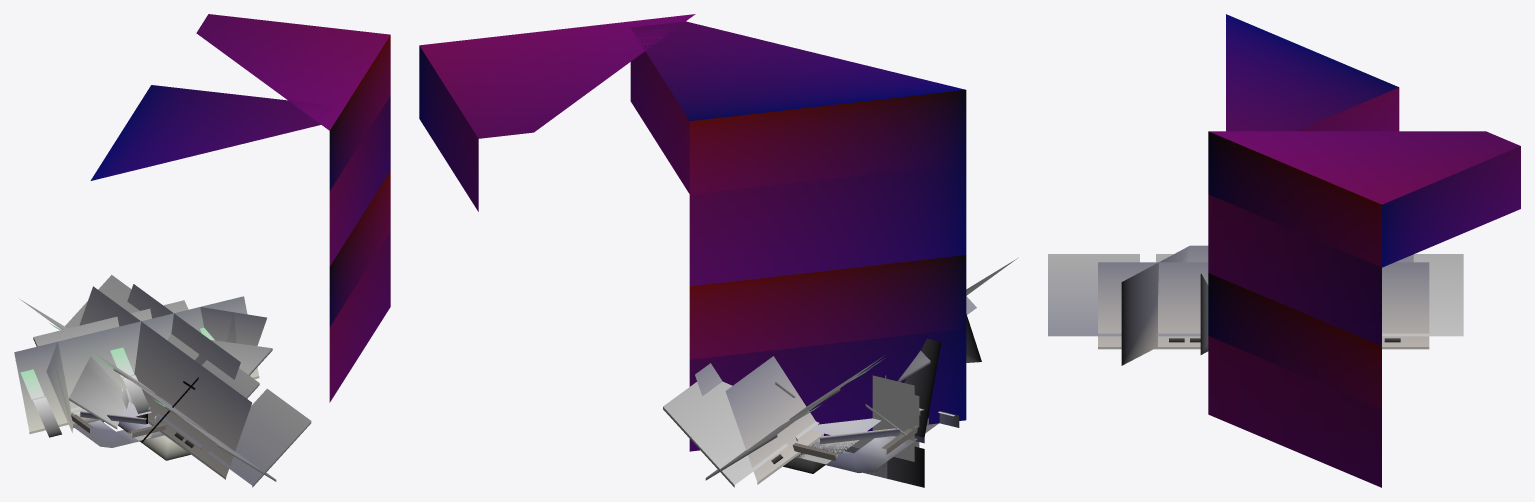
File: arena_survivor_series.glb
3 views of the same model, side by side, from view 1: azimuth 30°, elevation 25°; view 2: azimuth 150°, elevation 25°; view 3: azimuth 270°, elevation 25° (orthographic). The views are drawn at different scales.
Parts seen in each view (by area): view 1: 0x4fd_Arena, 0x4fe_Arena, 0x53d_Arena_Upper_Level_Crowd_Balcony_Part_14_Polygon, 0x53c_Arena_Upper_Level_Crowd_Balcony_Part_7_Polygon, 0x539_Arena_Upper_Level_Crowd_Balcony_Part_13_Polygon, 0x53a_Arena_Upper_Level_Crowd_Balcony_Part_1_Polygon, 0x537_Arena_Right_Crowd_Back_Row_Polygon, 0x53e_Arena_Upper_Level_Crowd_Balcony_Part_3_Polygon, 0x53b_Arena_Upper_Level_Crowd_Balcony_Part_2_Polygon, 0x538_Arena_Upper_Level_Crowd_Balcony_Part_12_Polygon, 0x545_Arena_Crowd_Area_Behind_the_Stage_Left_Side_Part_1_Pol, 0x5c3_Arena_Survivor_Series_Bottom_Right_Side_of_the_Back_st (+3 smaller); view 2: 0x4fe_Arena, 0x4fd_Arena, 0x53d_Arena_Upper_Level_Crowd_Balcony_Part_14_Polygon, 0x53c_Arena_Upper_Level_Crowd_Balcony_Part_7_Polygon, 0x543_Arena_Crowd_Area_Left_of_the_Stage_Part_1_Polygon, 0x5bd_Arena_Survivor_Series_Bottom_of_the_Front_Structure, 0x545_Arena_Crowd_Area_Behind_the_Stage_Left_Side_Part_1_Pol, 0x53e_Arena_Upper_Level_Crowd_Balcony_Part_3_Polygon, 0x55b_Arena_Normal_Match_Outside_Floormats_Four_Corner_Secti, 0x55d_Arena_Normal_Match_Ring_Mat_Polygon, 0x55c_Arena_Normal_Match_Outside_Floor_Pads_Larger_Pieces_Po, 0x55e_Arena_Scaffolding_Piece_1_Polygon (+2 smaller); view 3: 0x4fd_Arena, 0x4fe_Arena, 0x546_Arena_Upper_Level_Crowd_Balcony_Part_15_Polygon, 0x545_Arena_Crowd_Area_Behind_the_Stage_Left_Side_Part_1_Pol, 0x547_Arena_Upper_Level_Crowd_Balcony_Part_5_Polygon, 0x541_Arena_Upper_Level_Crowd_Balcony_Part_9_Polygon.
Boxes of the visible parts, x1,y1,x2,y2 form: 0x4fd_Arena: (196,14,390,402); 0x4fe_Arena: (90,85,331,180); 0x53d_Arena_Upper_Level_Crowd_Balcony_Part_14_Polygon: (79,286,251,479); 0x53c_Arena_Upper_Level_Crowd_Balcony_Part_7_Polygon: (65,275,311,487); 0x539_Arena_Upper_Level_Crowd_Balcony_Part_13_Polygon: (46,296,259,432); 0x53a_Arena_Upper_Level_Crowd_Balcony_Part_1_Polygon: (14,307,266,434); 0x537_Arena_Right_Crowd_Back_Row_Polygon: (69,300,188,429); 0x53e_Arena_Upper_Level_Crowd_Balcony_Part_3_Polygon: (127,284,240,379); 0x53b_Arena_Upper_Level_Crowd_Balcony_Part_2_Polygon: (15,327,214,437); 0x538_Arena_Upper_Level_Crowd_Balcony_Part_12_Polygon: (33,319,272,411); 0x545_Arena_Crowd_Area_Behind_the_Stage_Left_Side_Part_1_Pol: (20,299,276,481); 0x5c3_Arena_Survivor_Series_Bottom_Right_Side_of_the_Back_st: (118,416,190,460); 0x4fe_Arena: (630,21,966,451); 0x4fd_Arena: (419,14,695,211); 0x53d_Arena_Upper_Level_Crowd_Balcony_Part_14_Polygon: (725,356,823,484); 0x53c_Arena_Upper_Level_Crowd_Balcony_Part_7_Polygon: (663,296,976,487); 0x543_Arena_Crowd_Area_Left_of_the_Stage_Part_1_Polygon: (845,338,941,487); 0x5bd_Arena_Survivor_Series_Bottom_of_the_Front_Structure: (872,375,914,445); 0x545_Arena_Crowd_Area_Behind_the_Stage_Left_Side_Part_1_Pol: (705,257,1018,480); 0x53e_Arena_Upper_Level_Crowd_Balcony_Part_3_Polygon: (695,314,981,395); 0x55b_Arena_Normal_Match_Outside_Floormats_Four_Corner_Secti: (826,429,929,467); 0x55d_Arena_Normal_Match_Ring_Mat_Polygon: (792,418,928,460); 0x55c_Arena_Normal_Match_Outside_Floor_Pads_Larger_Pieces_Po: (810,418,880,435); 0x55e_Arena_Scaffolding_Piece_1_Polygon: (818,408,924,444); 0x4fd_Arena: (1208,131,1520,487); 0x4fe_Arena: (1226,14,1399,137); 0x546_Arena_Upper_Level_Crowd_Balcony_Part_15_Polygon: (1098,262,1429,349); 0x545_Arena_Crowd_Area_Behind_the_Stage_Left_Side_Part_1_Pol: (1048,254,1463,336); 0x547_Arena_Upper_Level_Crowd_Balcony_Part_5_Polygon: (1121,245,1413,365); 0x541_Arena_Upper_Level_Crowd_Balcony_Part_9_Polygon: (1200,273,1208,354).
Size of the model in its own units: 25.7 by 19.01 by 25.17.
